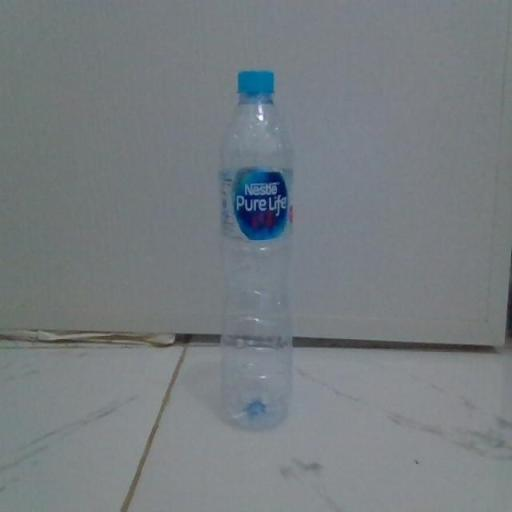bottle: (199, 57, 307, 434)
